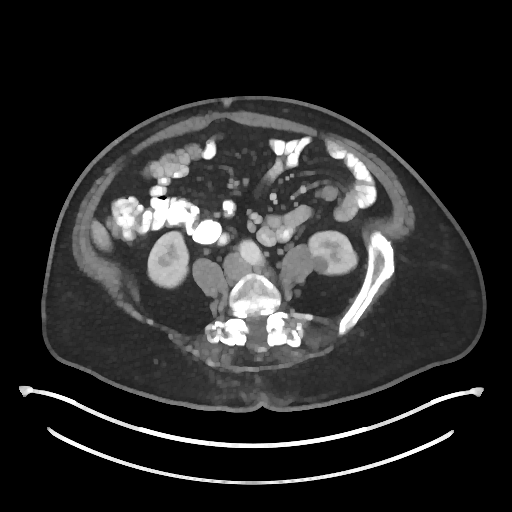Lesion: (311, 252, 331, 275)
